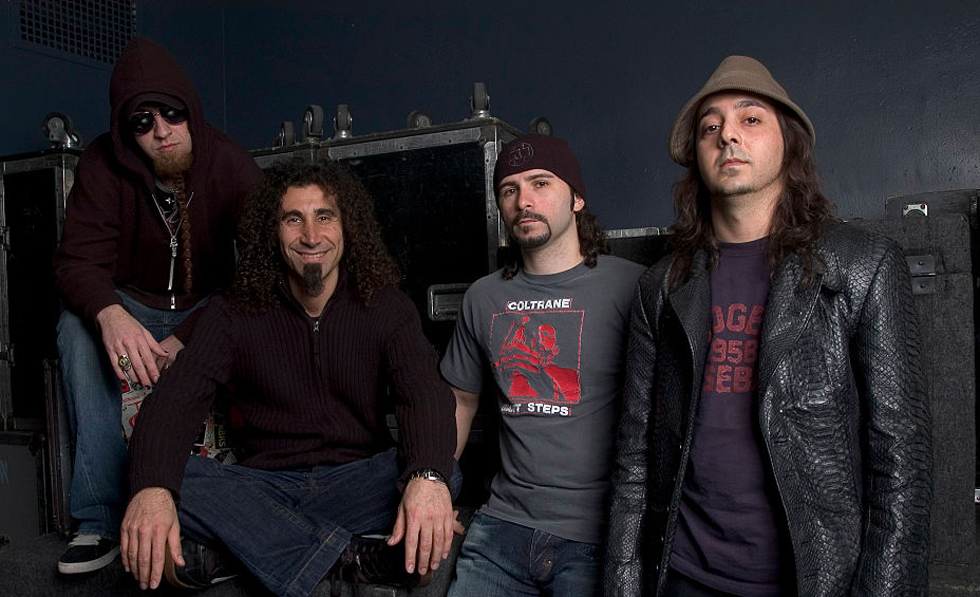without_mask: (695, 111, 777, 178), (499, 174, 569, 243), (124, 107, 192, 164), (280, 205, 340, 266)
